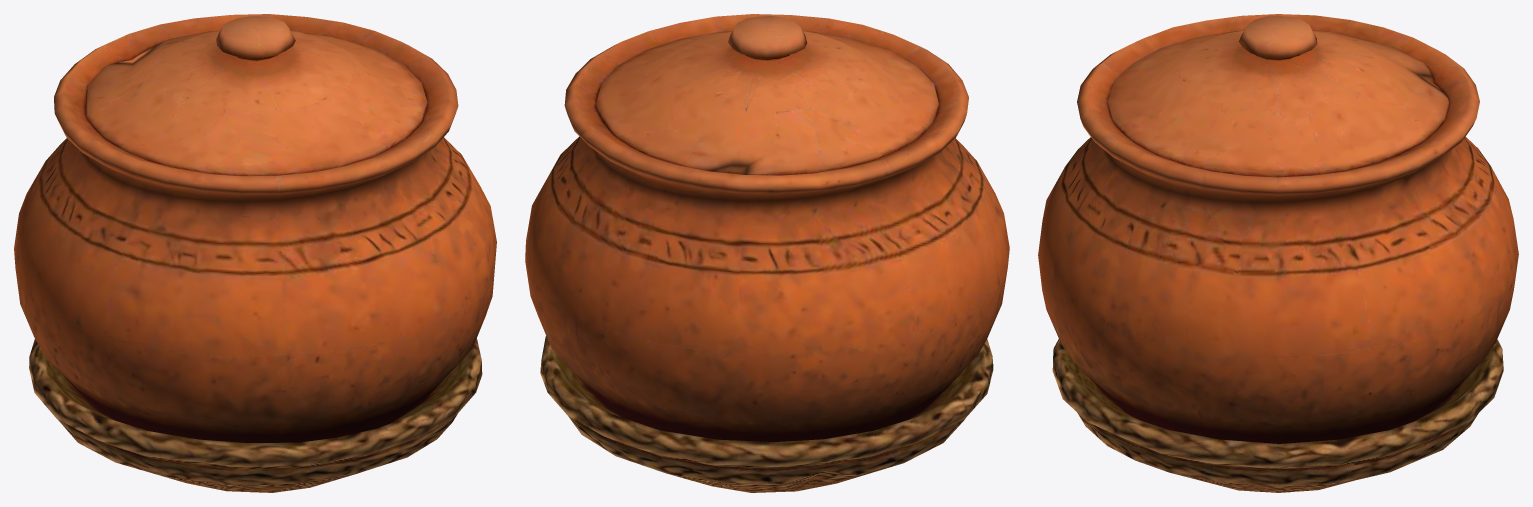
Rendered from palayok.glb.
The picture shows the model from 3 angles, left to right: view 1: azimuth 30°, elevation 25°; view 2: azimuth 150°, elevation 25°; view 3: azimuth 270°, elevation 25°; orthographic projection.
Parts seen in each view (by area): view 1: geometry_0; view 2: geometry_0; view 3: geometry_0.
Part boxes in pixels (bbox=[...]): geometry_0: bbox=[14, 14, 496, 492]; geometry_0: bbox=[525, 14, 1009, 492]; geometry_0: bbox=[1038, 14, 1518, 492].
Bounding box in the file's own units: 1 × 0.9976 × 1.
1 material, 1 textured.
